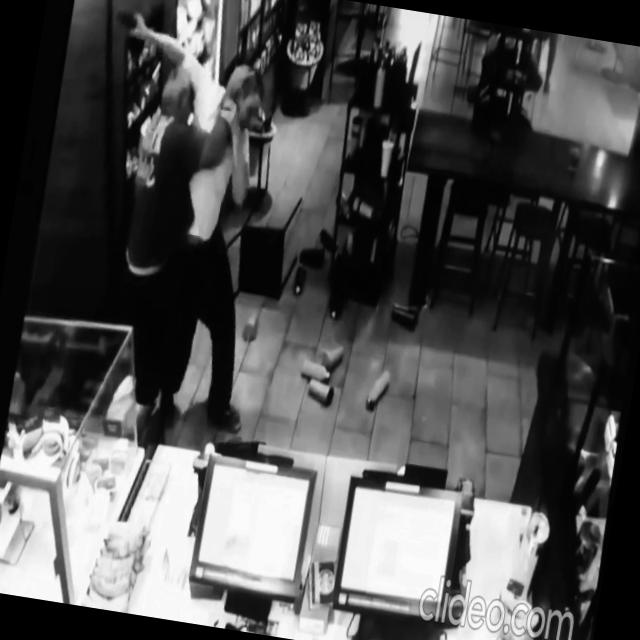gun: (112, 6, 144, 36)
person: (88, 49, 255, 453)
person with a gun: (53, 4, 310, 438)
